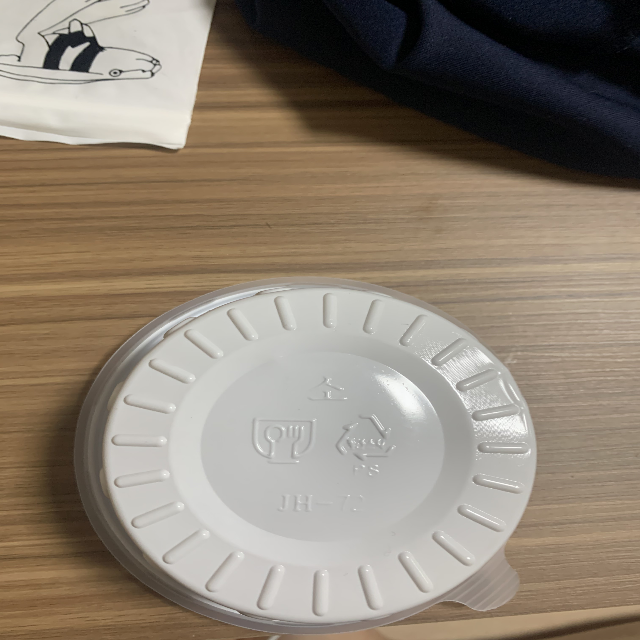ps: (332, 410, 399, 479)
